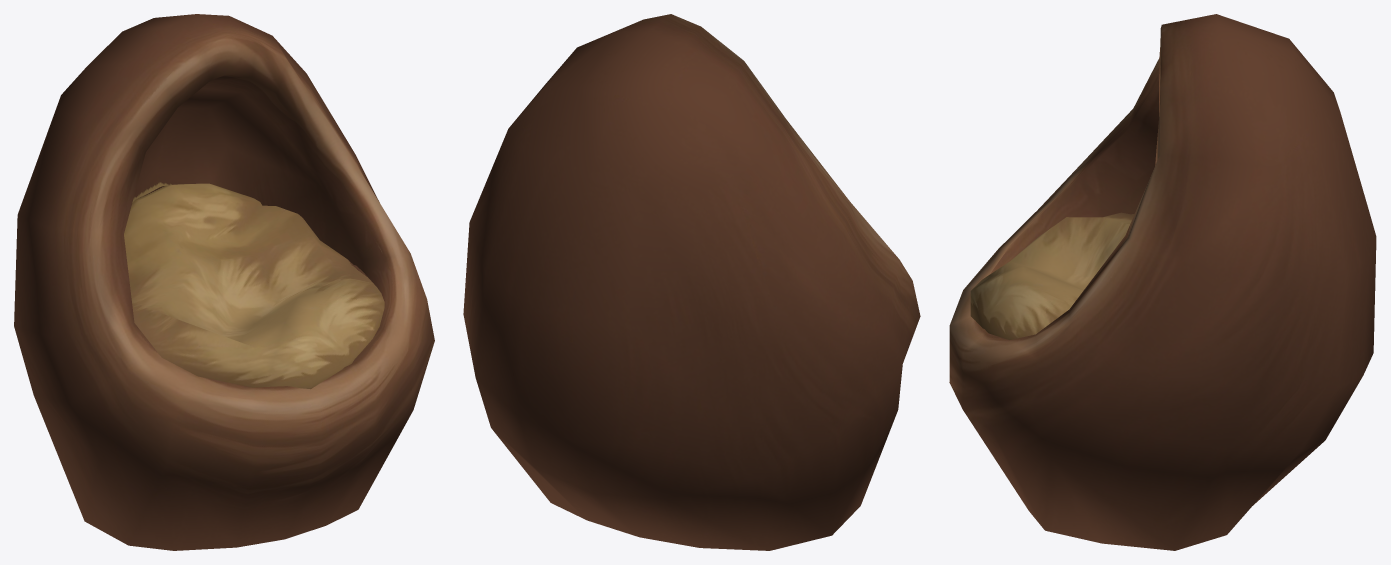
File: Nest.glb
3 views of the same model, side by side, from view 1: azimuth 30°, elevation 25°; view 2: azimuth 150°, elevation 25°; view 3: azimuth 270°, elevation 25° (orthographic). The views are drawn at different scales.
Visible parts, largest first — view 1: Nest; view 2: Nest; view 3: Nest.
Part boxes in pixels (x1,y1,x2,y2): Nest: (14,14,434,550); Nest: (463,14,920,550); Nest: (949,14,1376,550).
Size of what is drawn, in the model's own units: 0.8204 by 1.01 by 0.8372.
Materials: 1 (1 with a texture image).
